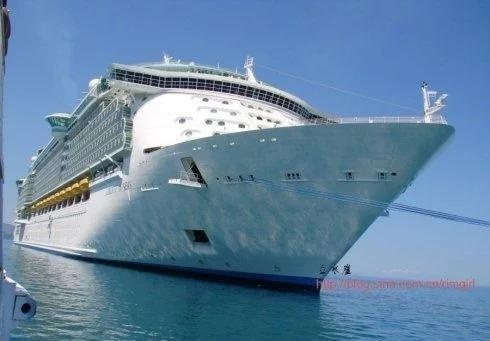youlun: (9, 43, 454, 287)
